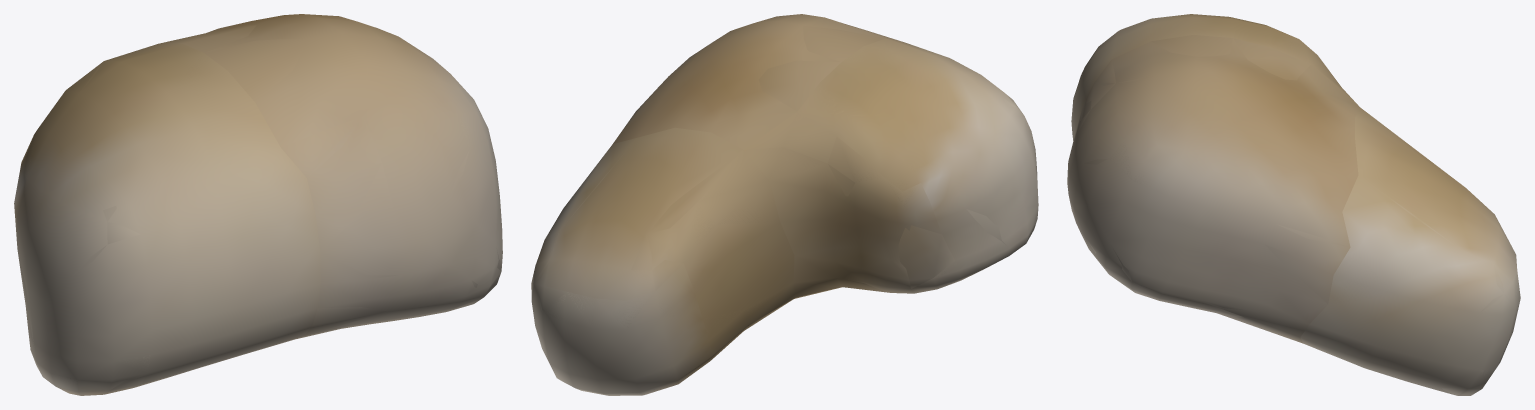
File: R talus.fbx
3 renders of one model, left to right at view 1: azimuth 30°, elevation 25°; view 2: azimuth 150°, elevation 25°; view 3: azimuth 270°, elevation 25°, orthographic. The views are drawn at different scales.
Visible parts, largest first — view 1: R talus, R talus low; view 2: R talus, R talus low; view 3: R talus, R talus low.
Boxes of the visible parts, bbox=[...] form: R talus: bbox=[14, 14, 502, 395]; R talus low: bbox=[18, 25, 501, 394]; R talus: bbox=[531, 14, 1038, 395]; R talus low: bbox=[531, 25, 1035, 394]; R talus: bbox=[1067, 14, 1520, 395]; R talus low: bbox=[1076, 20, 1519, 395].
Size of the model in its own units: 2.62 by 2.07 by 2.9.
